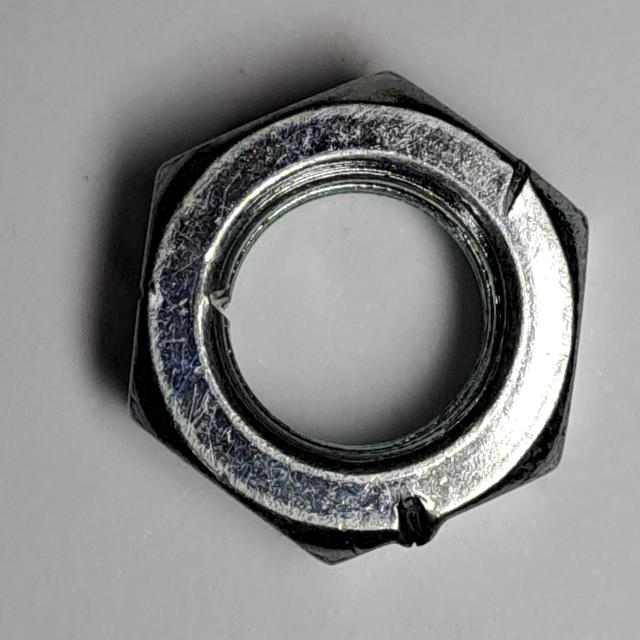Scratches: (117, 55, 600, 581)
